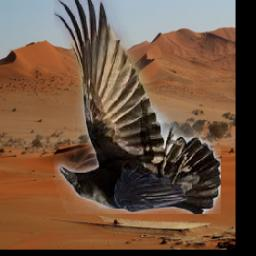Crow: (54, 0, 221, 215)
